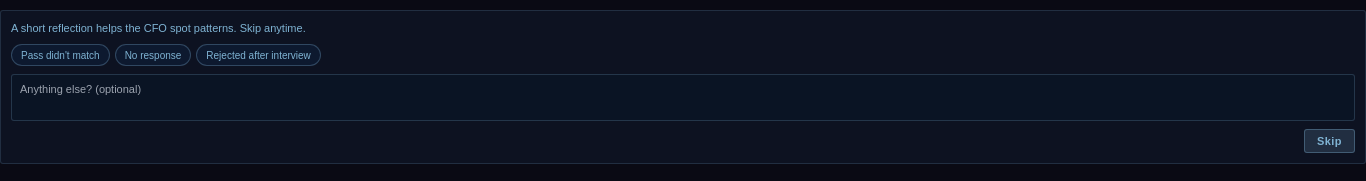
Scenario: RejectionReflectionStrip — chip interaction › clicking a selected chip again deselects it
This screenshot has width=1366, height=181.
Click the button "No response" at x=153, y=55, box [115, 44, 191, 66]
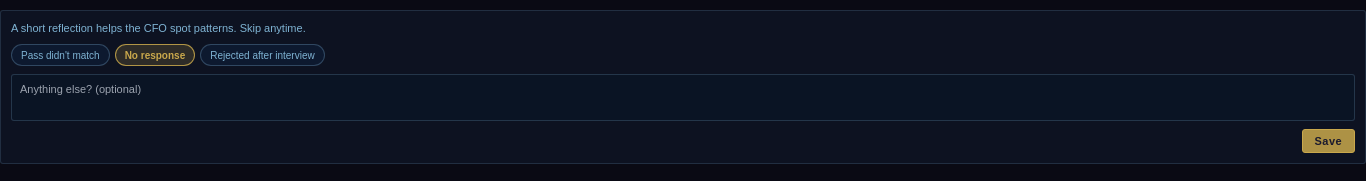
Click the button "No response" at x=155, y=55, box [115, 44, 195, 66]
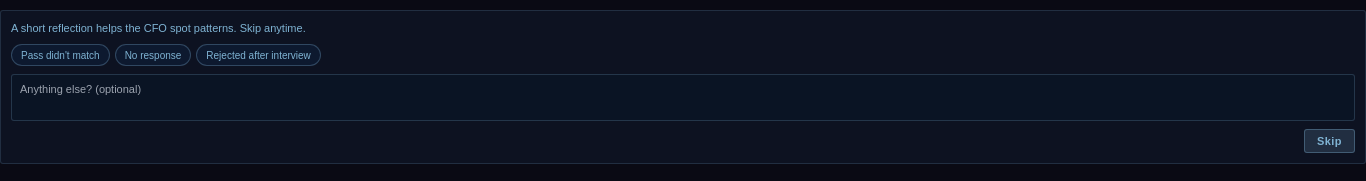
Expected: the button "Skip" is shown, [1304, 129, 1355, 153]
